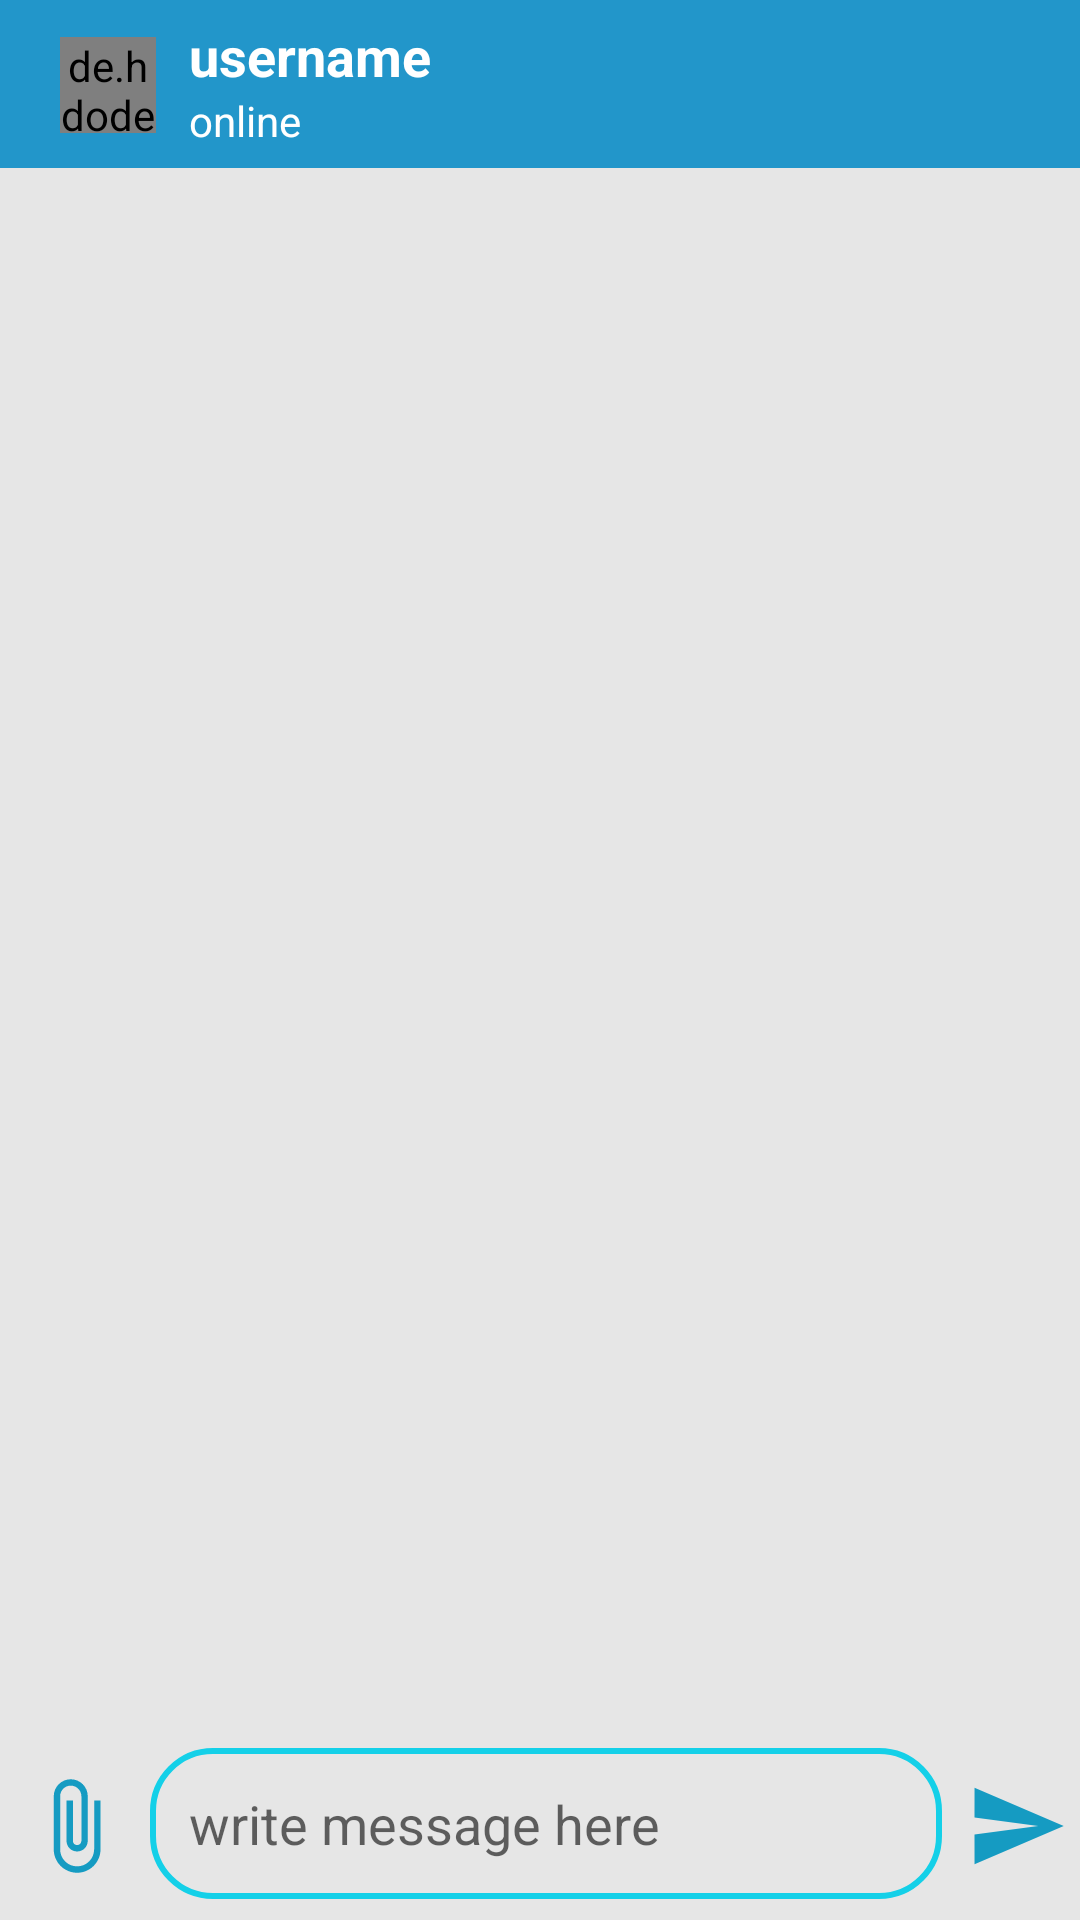

Point at icon controls on the screen. Image size 1080x1920, points as (x,y).
attach file: (77,1826)
send: (1018,1826)
